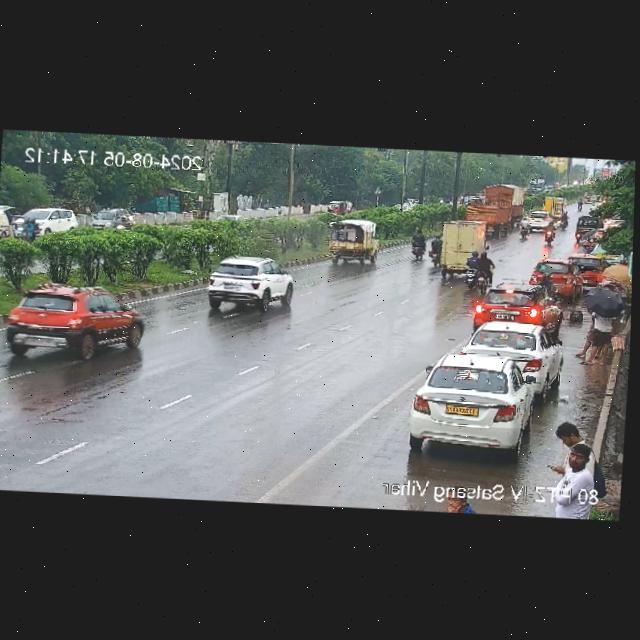car: (405, 350, 553, 456), (0, 283, 148, 361), (465, 320, 561, 381), (198, 257, 292, 314), (323, 219, 381, 266), (526, 258, 582, 293), (566, 249, 604, 280), (572, 214, 598, 242), (521, 210, 557, 230), (539, 197, 566, 217)
motorcycle: (457, 249, 493, 288), (403, 230, 427, 260), (539, 225, 559, 244), (517, 221, 533, 240), (540, 270, 554, 287)
person: (577, 291, 622, 367), (547, 448, 595, 501), (553, 421, 584, 448)
truck: (426, 217, 496, 276), (455, 183, 524, 229)
